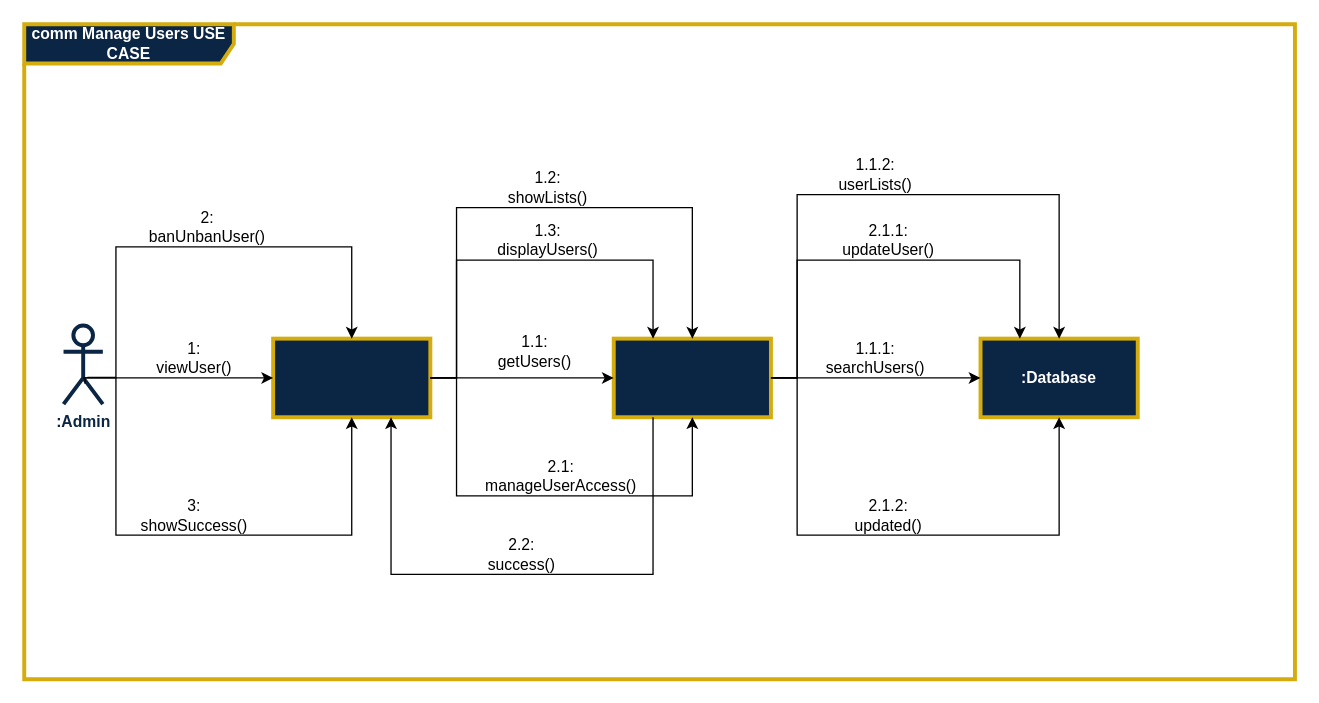
The diagram is 1319 pixels wide and 703 high, and some of its shapes have lost their labels. Each missing label, with the centre of its shape:
:AdminController: the point at 691,377
:AdminDashboardUI: the point at 351,377
